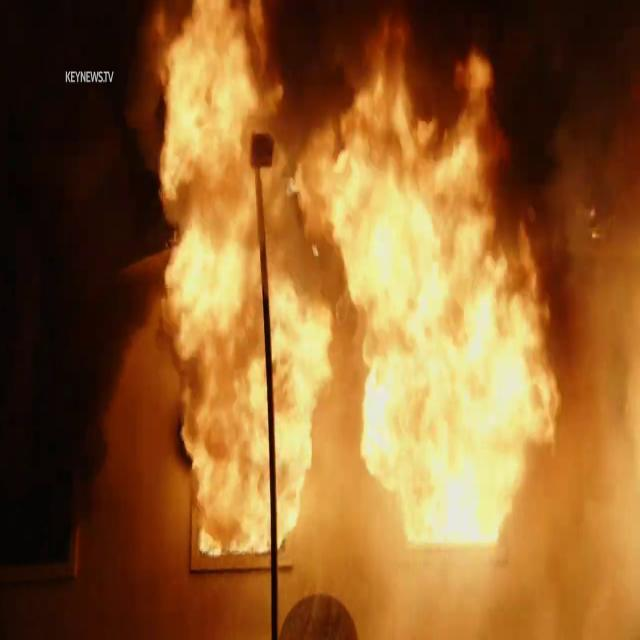Fire: (134, 2, 638, 608)
